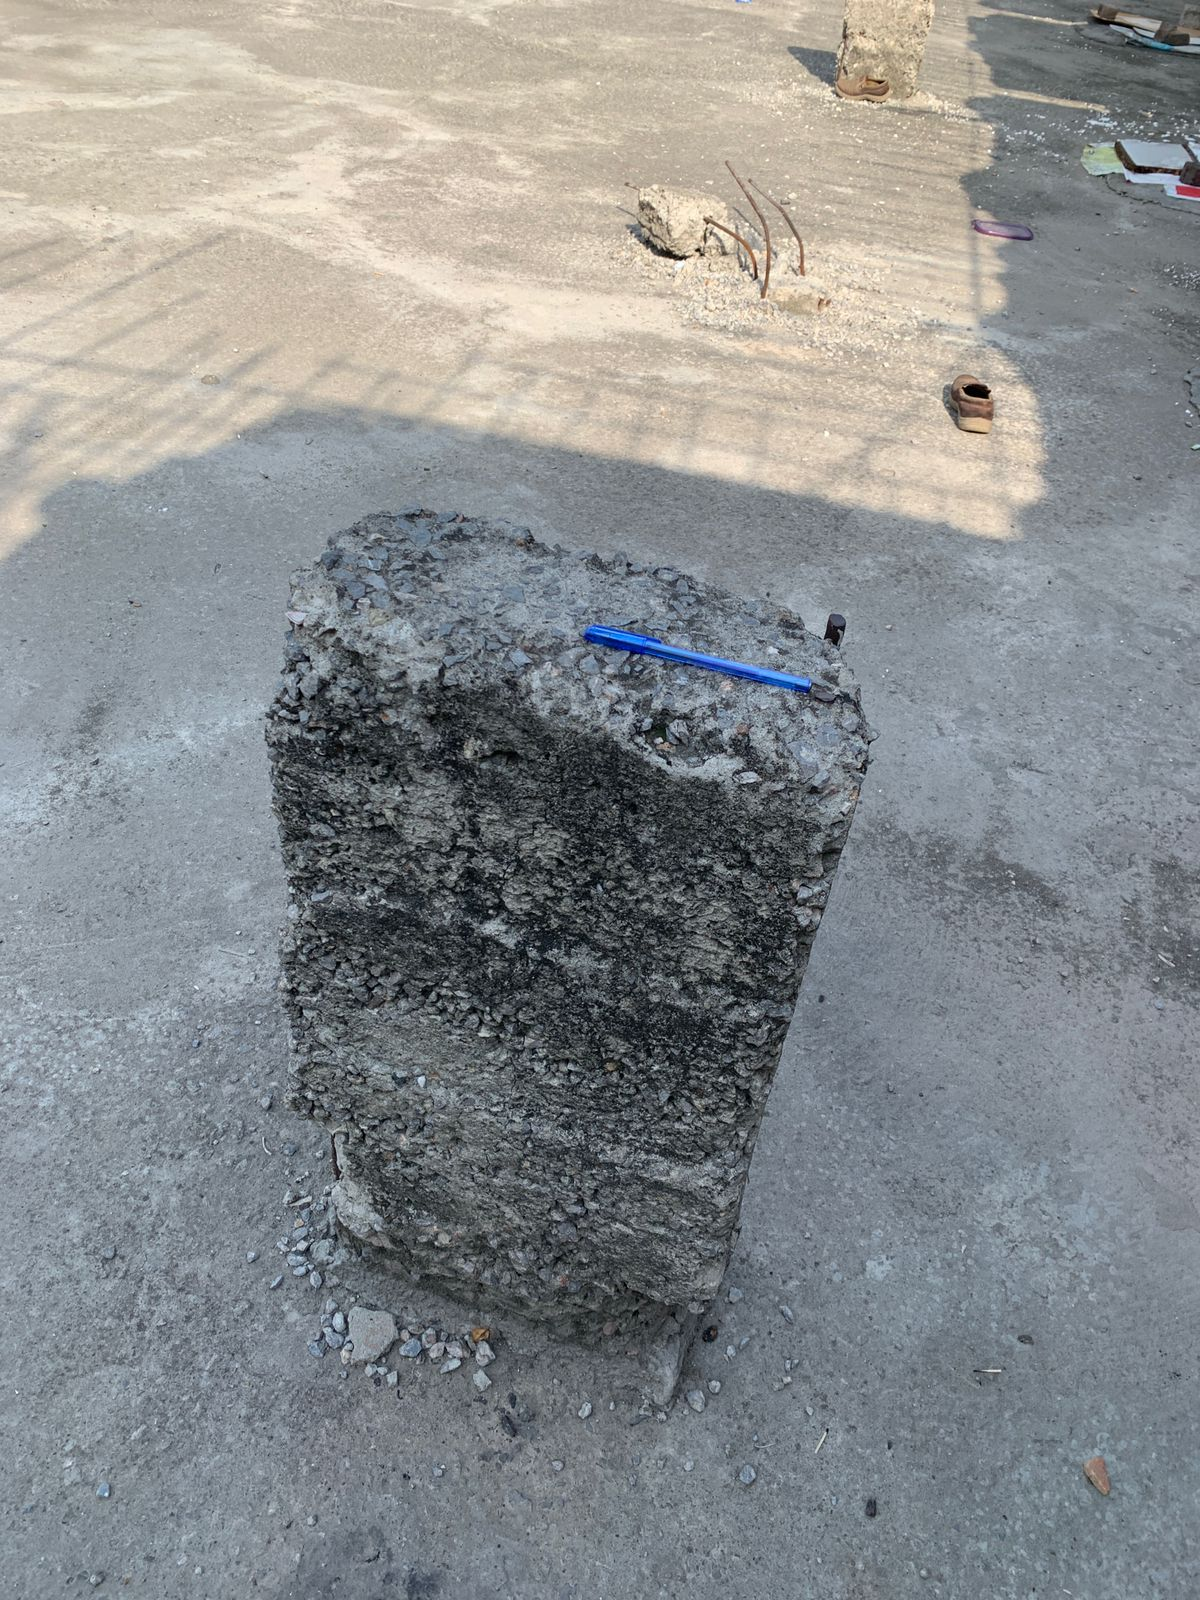pen: (488, 602, 928, 730)
